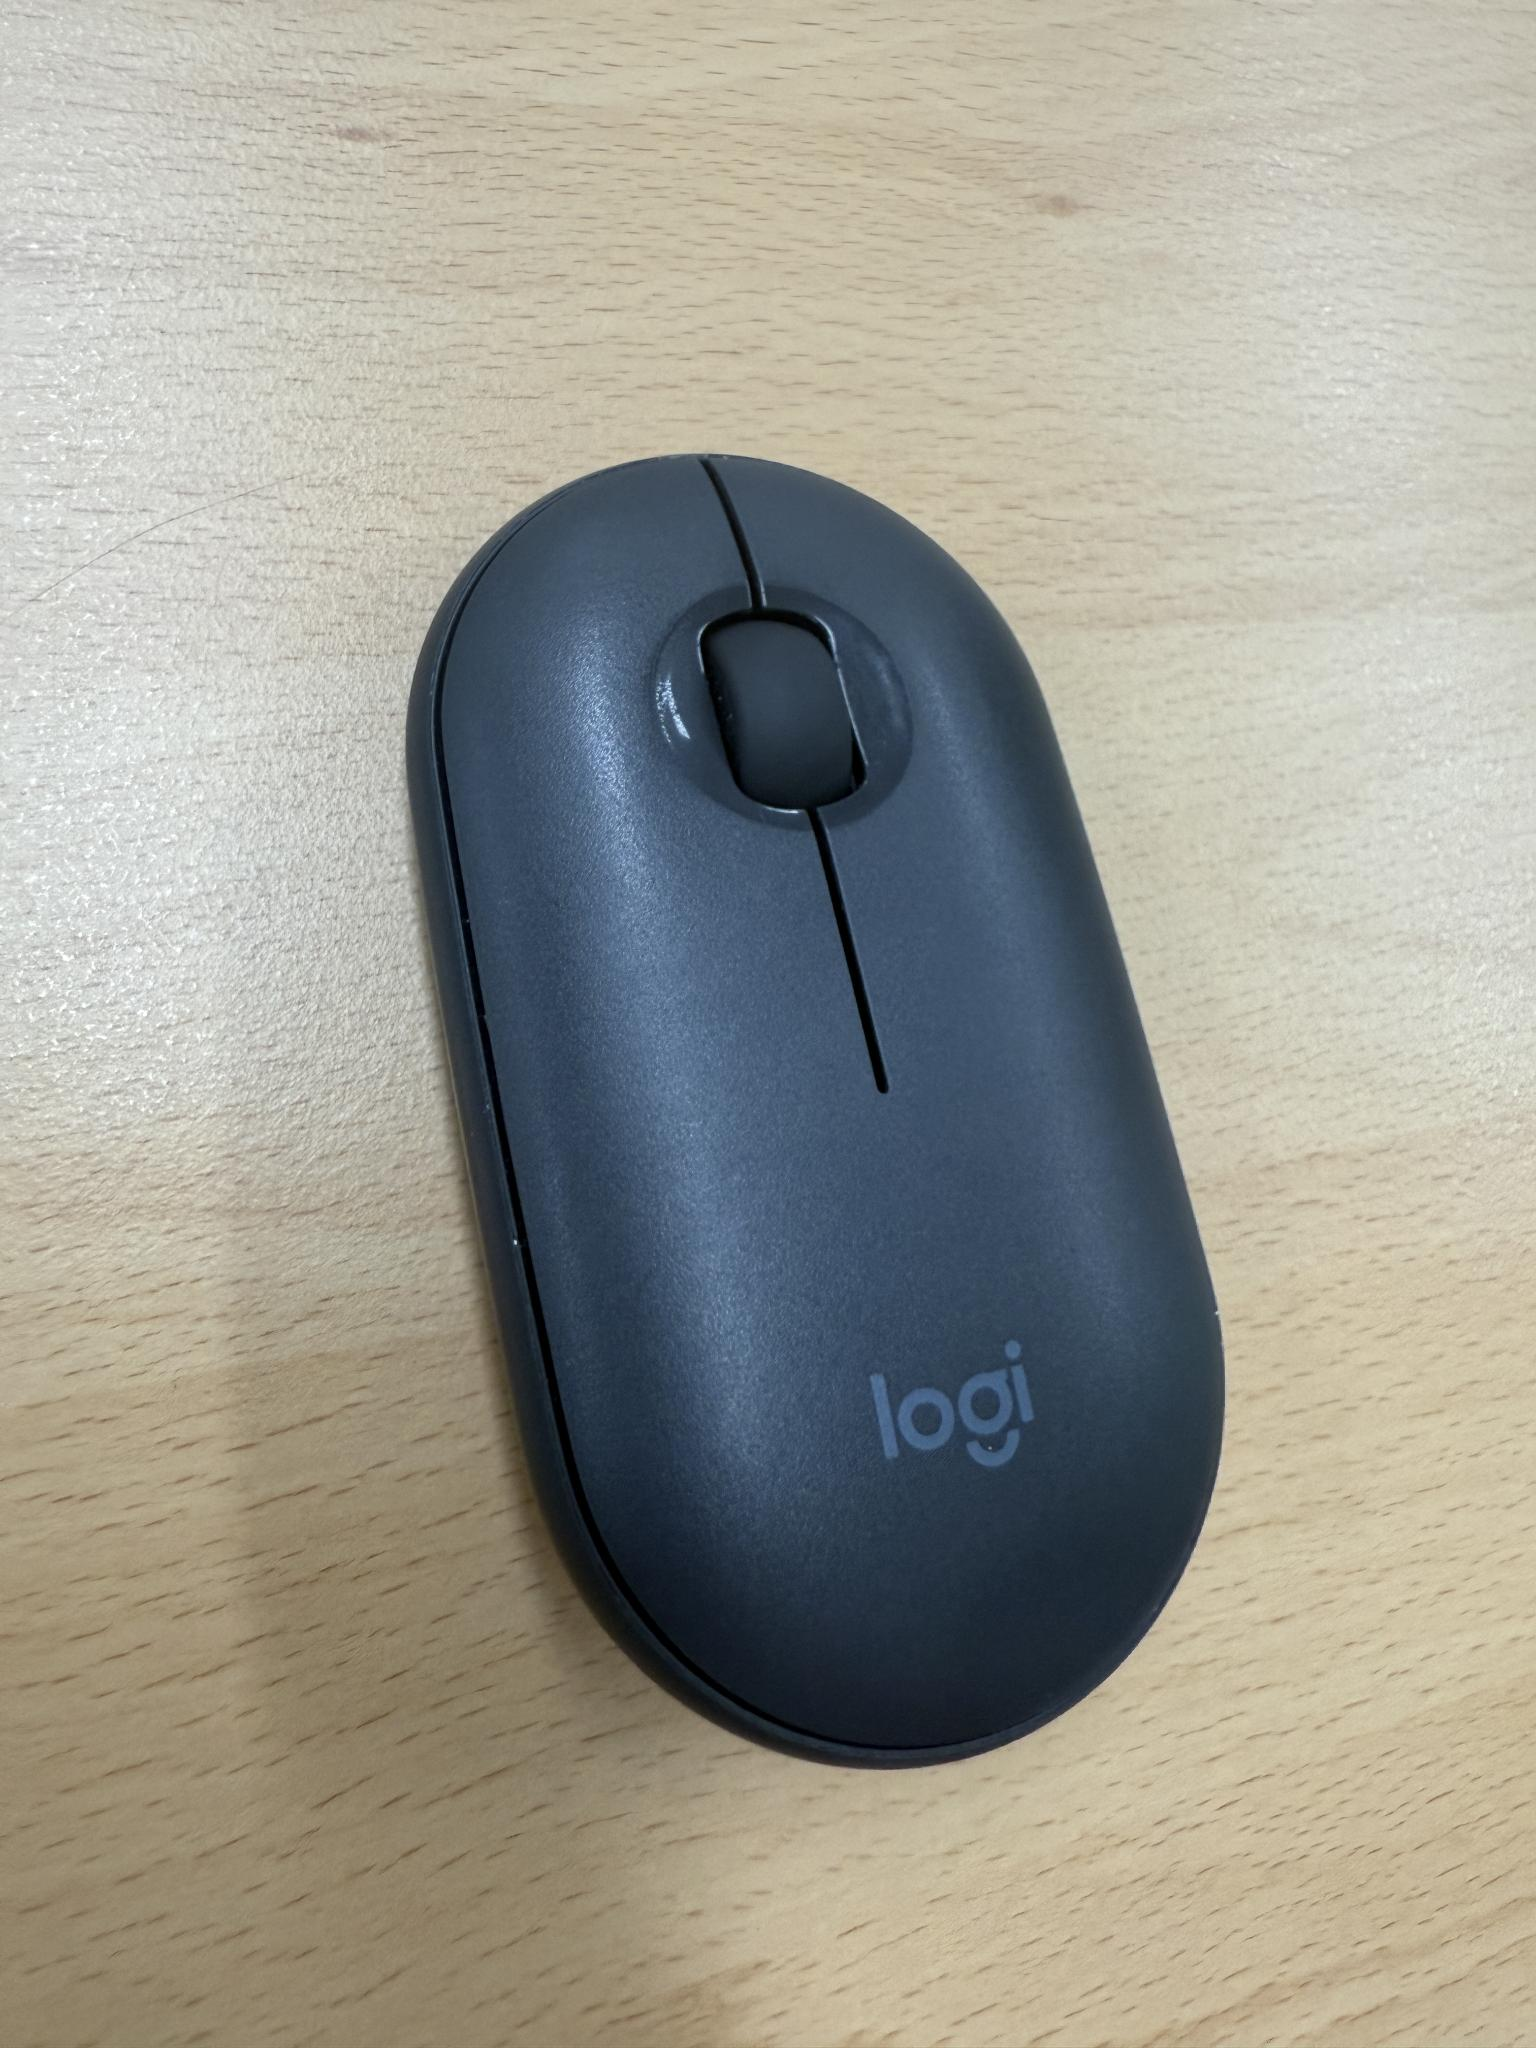front: (408, 450, 1229, 1780)
